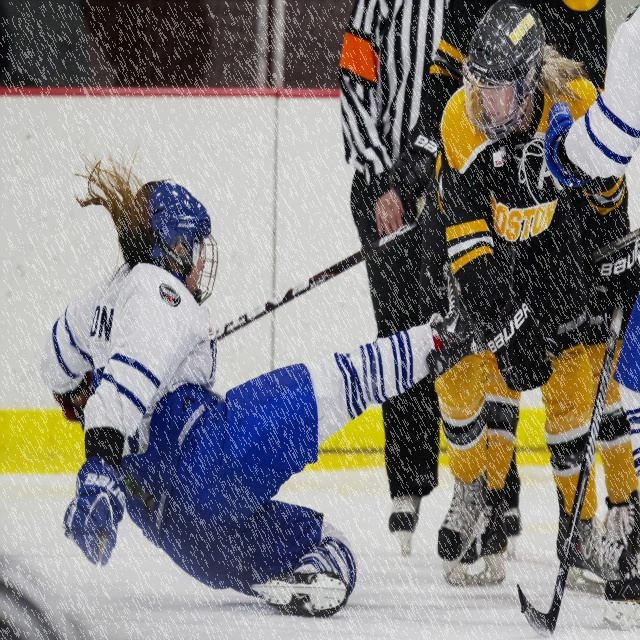pessoa: (39, 140, 486, 626), (412, 0, 640, 607), (435, 0, 633, 588), (547, 0, 638, 209), (605, 283, 640, 612)
